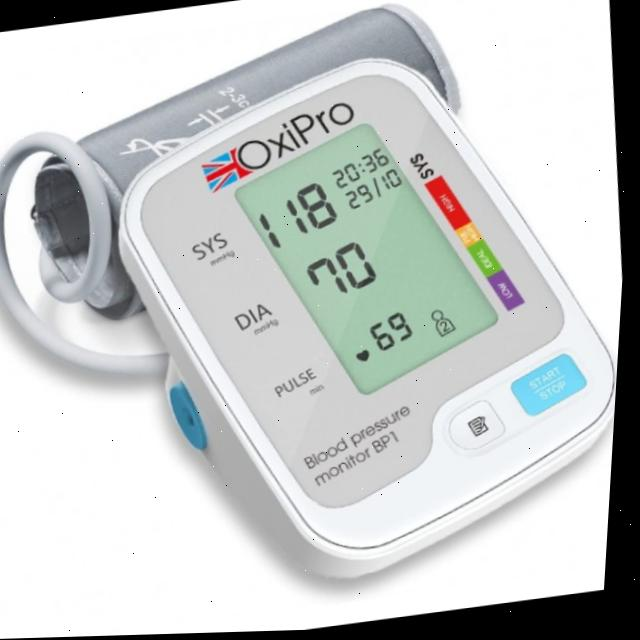dia: (299, 229, 396, 316)
pul: (363, 303, 425, 363)
ssd: (229, 110, 505, 411)
sys: (248, 168, 354, 259)
